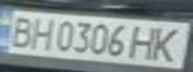0: (51, 17, 75, 53), (90, 20, 112, 56)
3: (72, 19, 93, 54)
6: (106, 21, 133, 59)
B: (3, 14, 39, 48)
H: (127, 22, 163, 61), (24, 16, 57, 51)
K: (148, 24, 190, 64)
